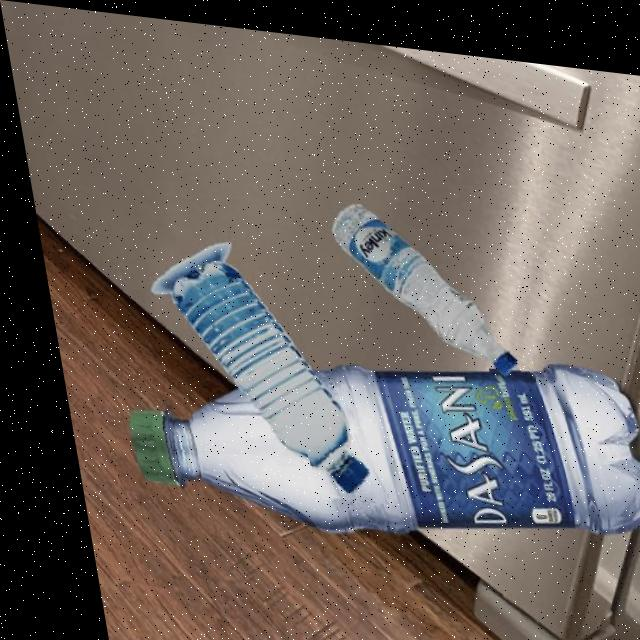plasticbottlecap: (91, 384, 189, 504), (291, 433, 377, 497), (474, 332, 526, 376)
